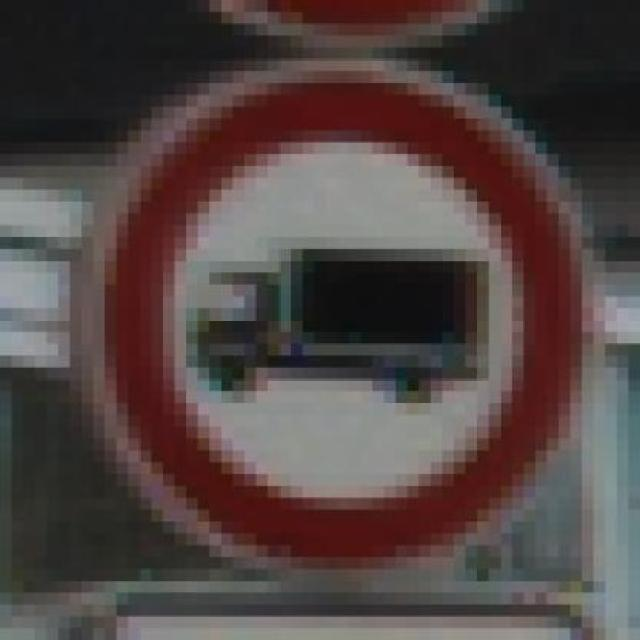Truck traffic is prohibited: (69, 48, 594, 580)
